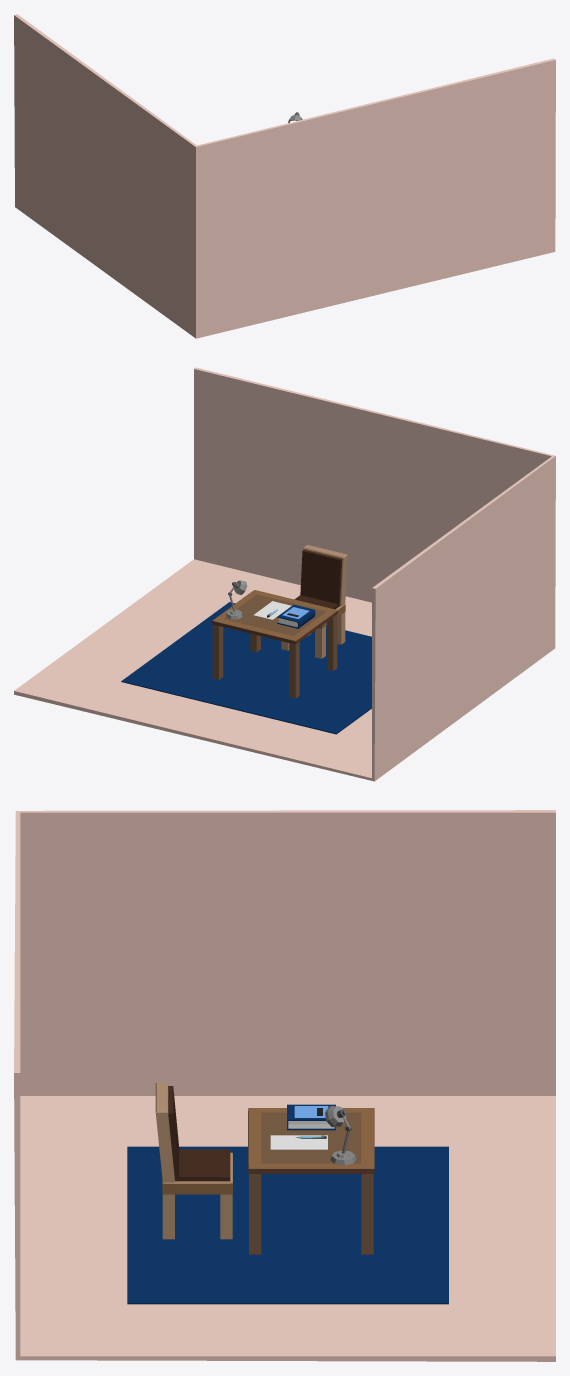
Rendered from study_table.glb.
3 renders of one model, top to bottom at view 1: azimuth 30°, elevation 25°; view 2: azimuth 150°, elevation 25°; view 3: azimuth 270°, elevation 25°, orthographic. The views are drawn at different scales.
Parts seen in each view (by area): view 1: table.002; view 2: table.002, table.001, table, chair, book; view 3: table.002, table.001, table, chair, book, tablelamp, paper.
Part boxes in pixels (box(x1,y1,x2,y2)): table.002: box(14, 14, 555, 338); table.002: box(14, 367, 555, 781); table.001: box(121, 602, 371, 734); table: box(212, 590, 337, 698); chair: box(281, 545, 347, 658); book: box(277, 604, 315, 628); table.002: box(14, 810, 555, 1361); table.001: box(127, 1146, 448, 1304); table: box(248, 1108, 374, 1254); chair: box(155, 1082, 232, 1239); book: box(287, 1104, 335, 1130); tablelamp: box(325, 1106, 356, 1165); paper: box(270, 1135, 327, 1149).
Bounding box in the file's own units: 17.83 × 9.14 × 15.54.
2 materials, 1 textured.
